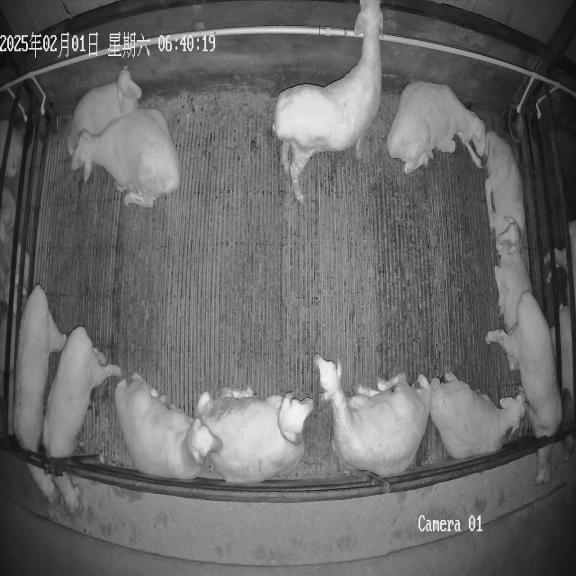eating: (42, 326, 121, 514), (486, 292, 562, 484), (13, 285, 66, 503)
lying: (315, 355, 431, 478), (115, 373, 222, 479), (197, 388, 314, 482), (72, 109, 179, 207), (387, 82, 486, 174), (430, 372, 525, 459), (67, 66, 141, 155), (484, 131, 525, 261), (495, 250, 531, 333)
stand: (273, 0, 383, 202)
